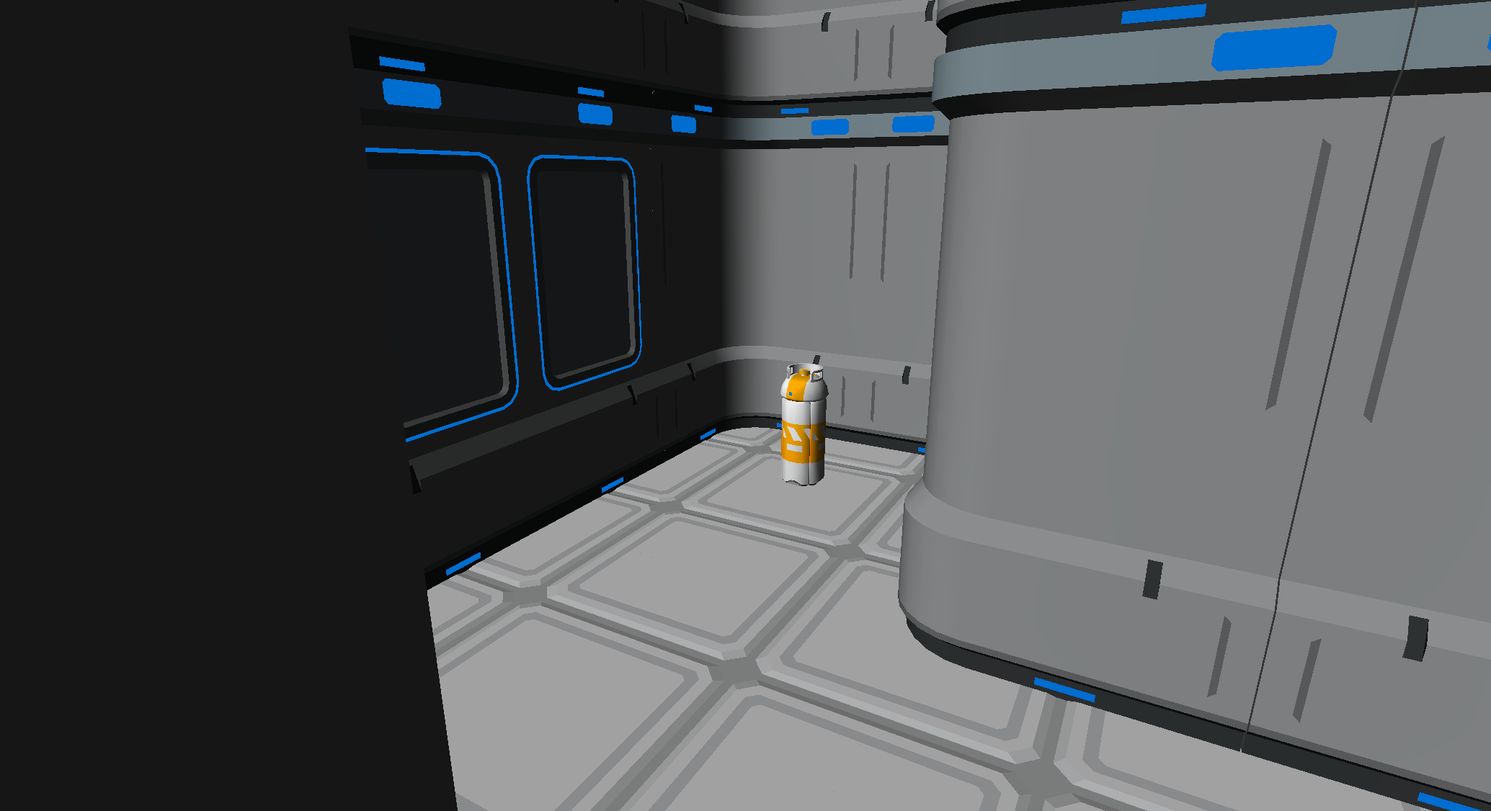yellow_barrel: (780, 364, 828, 485)
